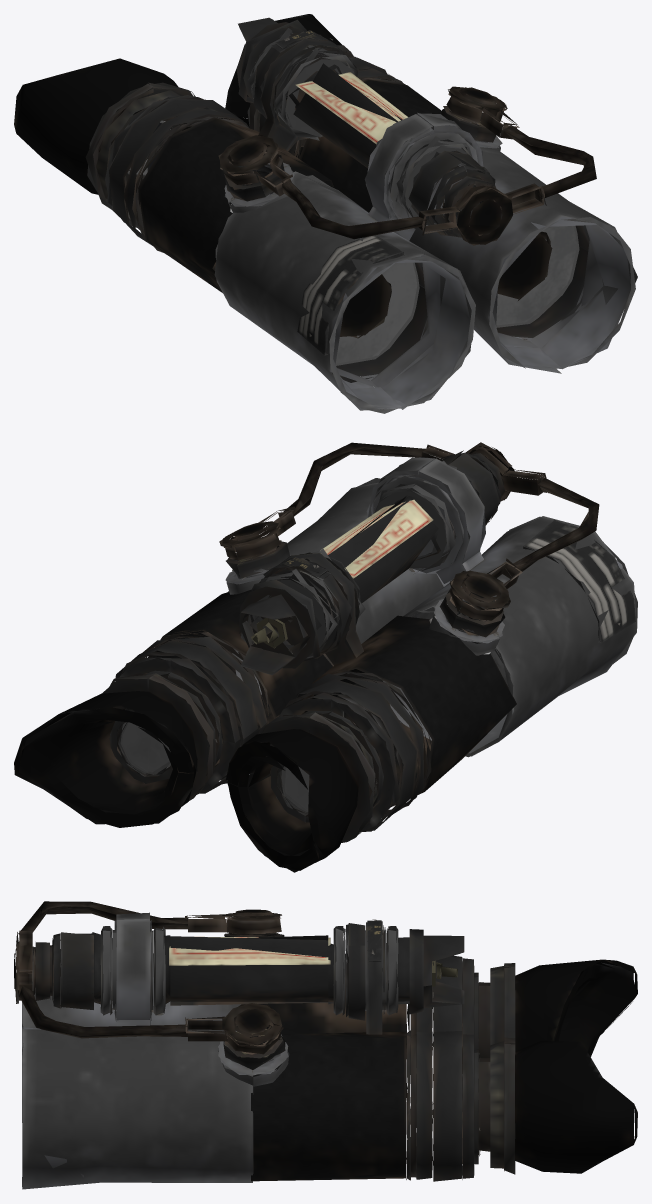
The model's file is SM_ir_binoculars.glb.
3 renders of one model, top to bottom at view 1: azimuth 30°, elevation 25°; view 2: azimuth 150°, elevation 25°; view 3: azimuth 270°, elevation 25°, orthographic. The views are drawn at different scales.
Visible parts, largest first — view 1: SM_ir_binoculars; view 2: SM_ir_binoculars; view 3: SM_ir_binoculars.
Boxes of the visible parts, x1,y1,x2,y2 form: SM_ir_binoculars: [14, 14, 637, 413]; SM_ir_binoculars: [14, 442, 637, 872]; SM_ir_binoculars: [14, 901, 637, 1189].
Bounding box in the file's own units: 0.1441 × 0.1019 × 0.256.
2 materials, 2 textured.
